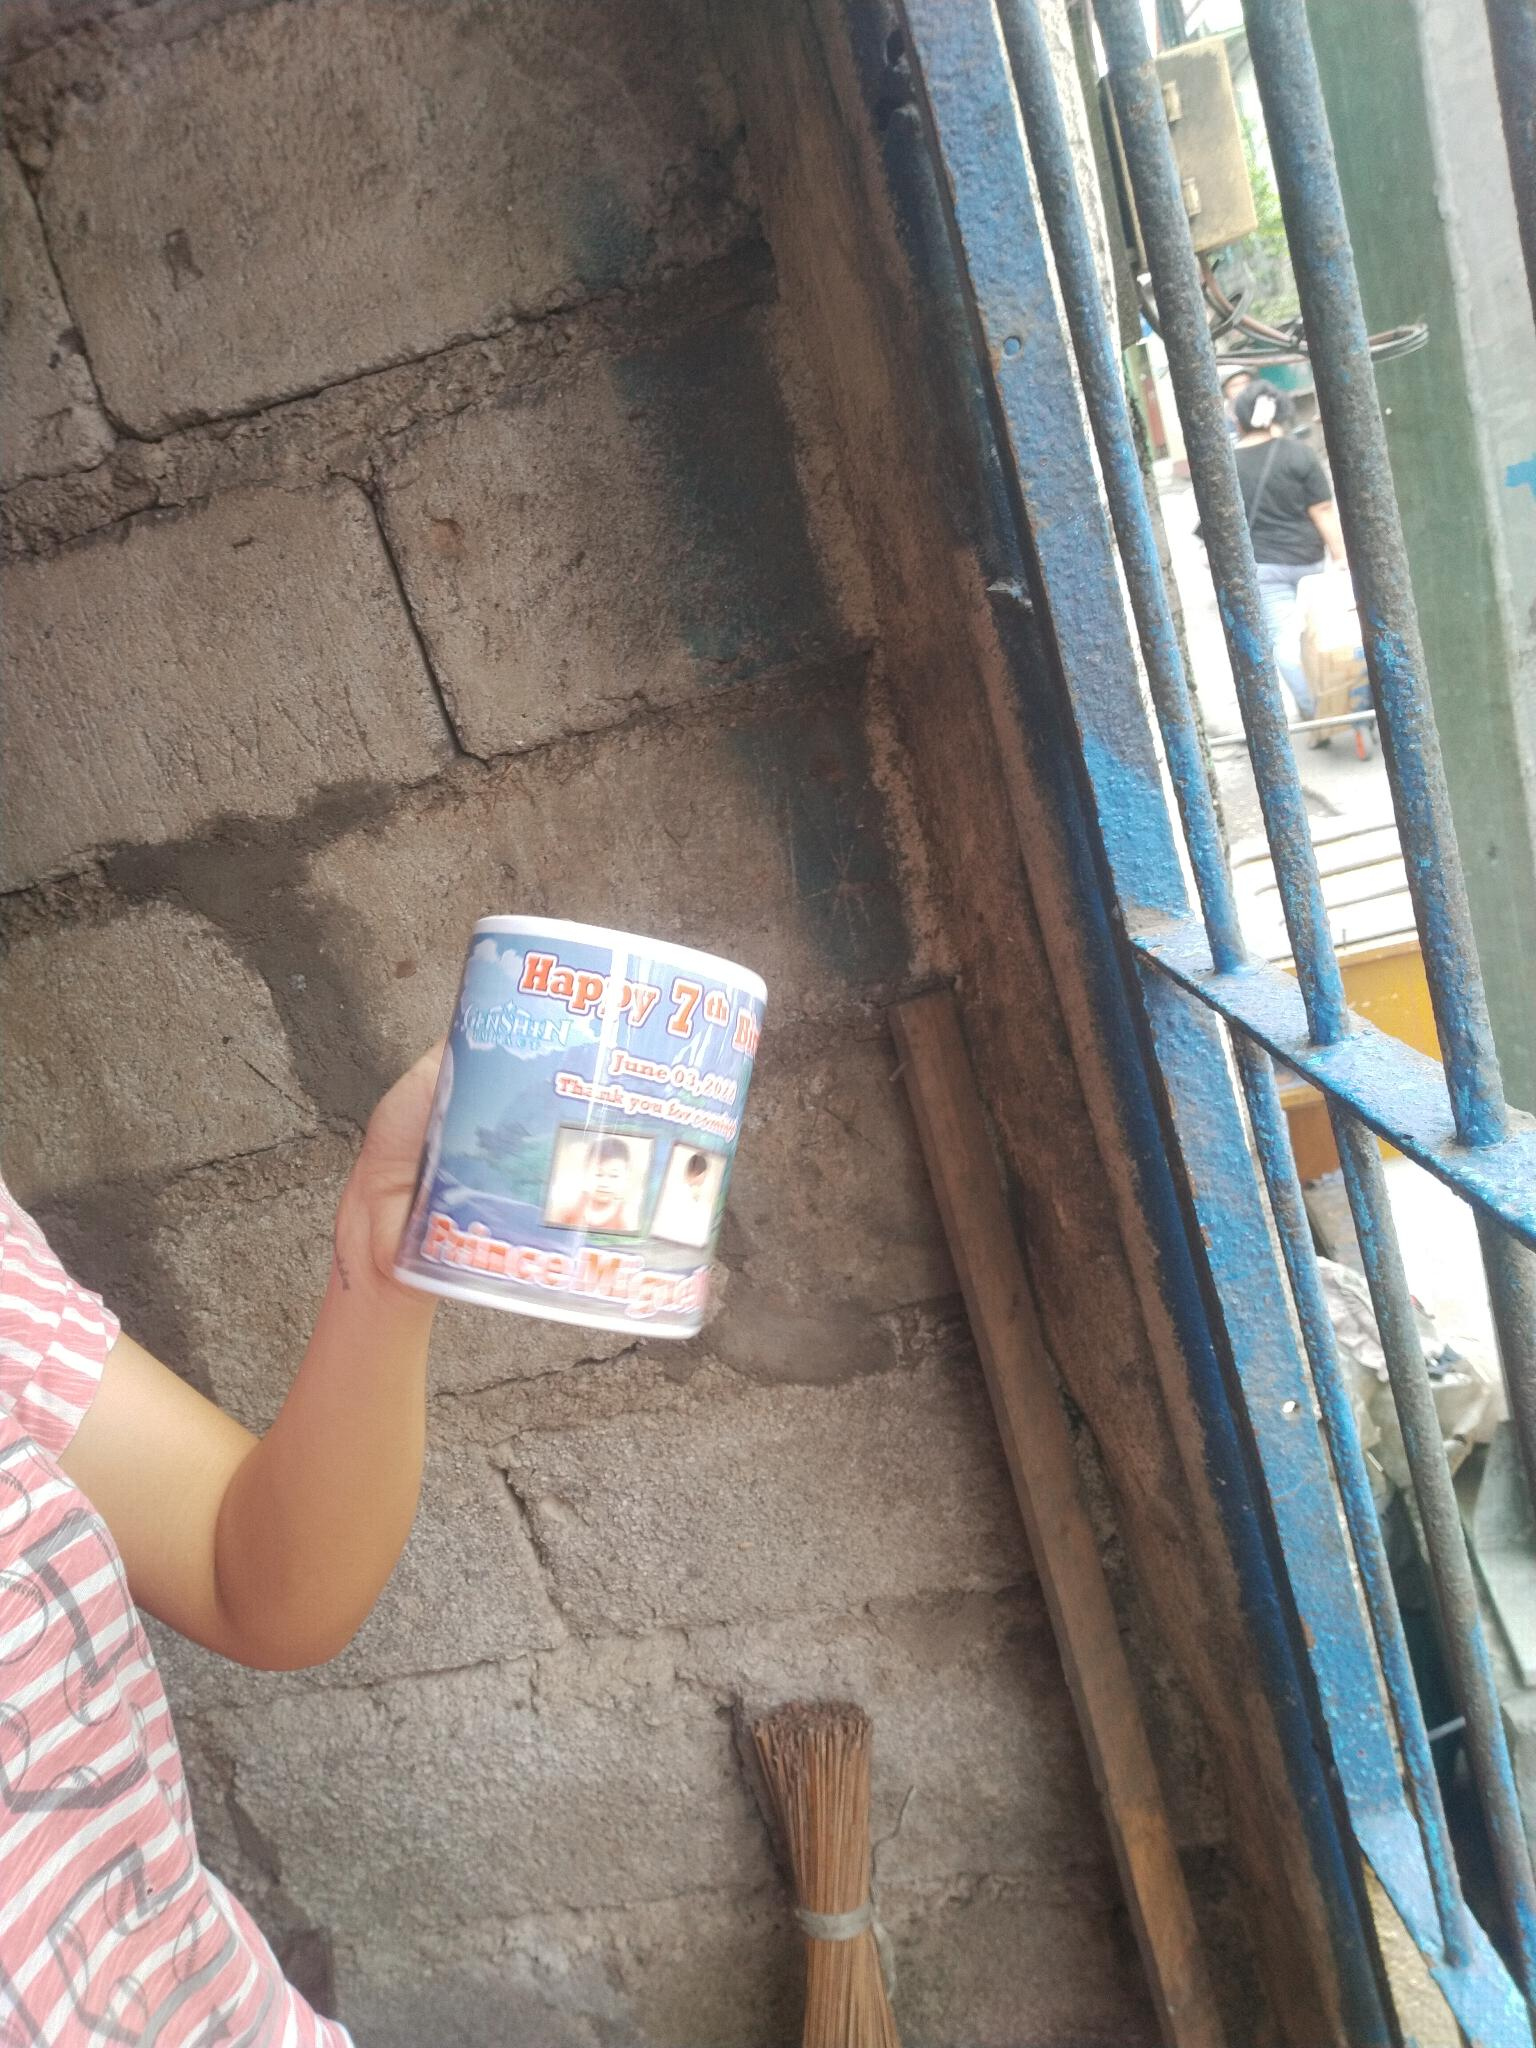Coffee Mug: (390, 916, 771, 1343)
